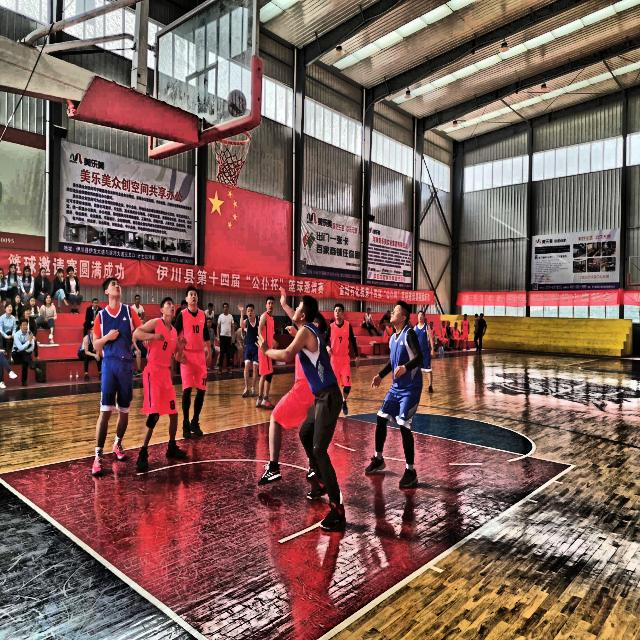rim: (215, 129, 252, 186)
